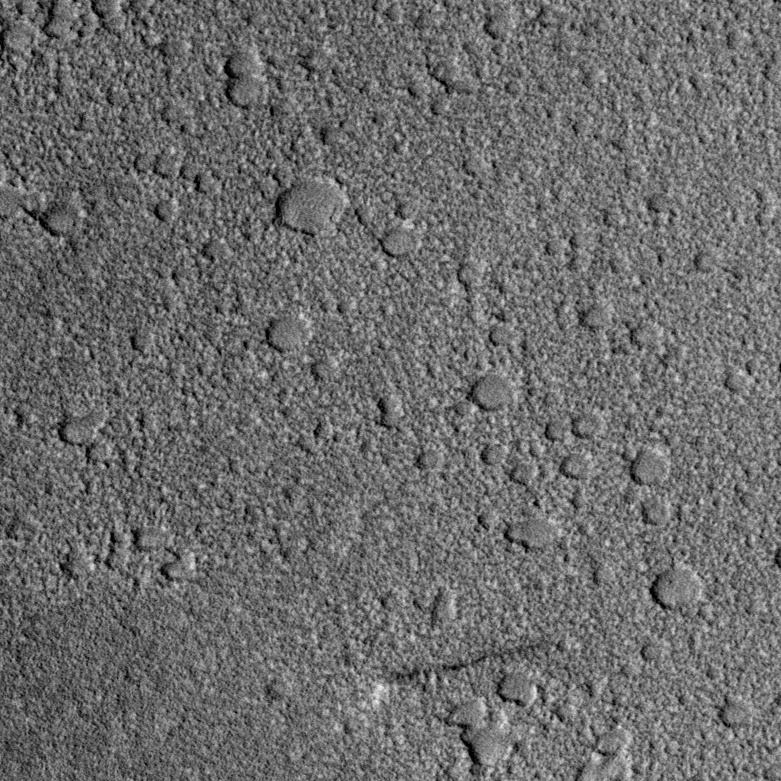dust_devil: (368, 636, 551, 712)
